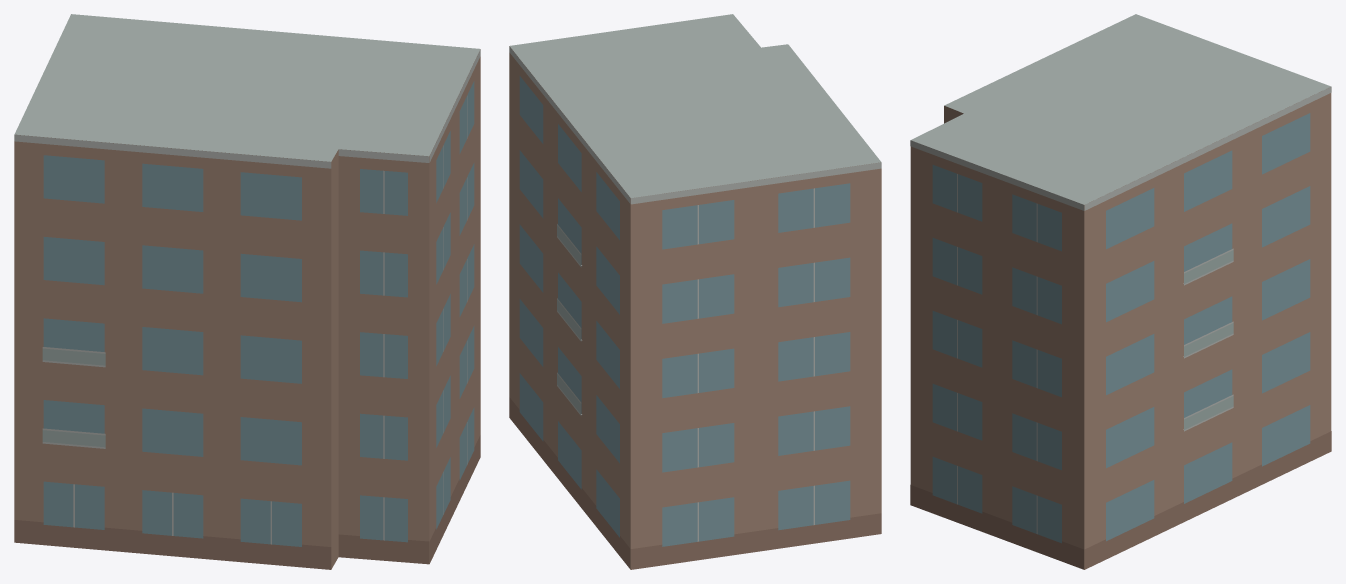
Rendered from survey-upis-32883582.glb.
3 views of the same model, side by side, from view 1: azimuth 30°, elevation 25°; view 2: azimuth 150°, elevation 25°; view 3: azimuth 270°, elevation 25° (orthographic). The views are drawn at different scales.
Parts seen in each view (by area): view 1: survey-upis-32883582.tmp; view 2: survey-upis-32883582.tmp; view 3: survey-upis-32883582.tmp.
Boxes of the visible parts, bbox=[...] form: survey-upis-32883582.tmp: bbox=[14, 14, 480, 569]; survey-upis-32883582.tmp: bbox=[509, 14, 881, 569]; survey-upis-32883582.tmp: bbox=[910, 14, 1331, 569].
Bounding box in the file's own units: 16.28 × 14.5 × 15.17.
